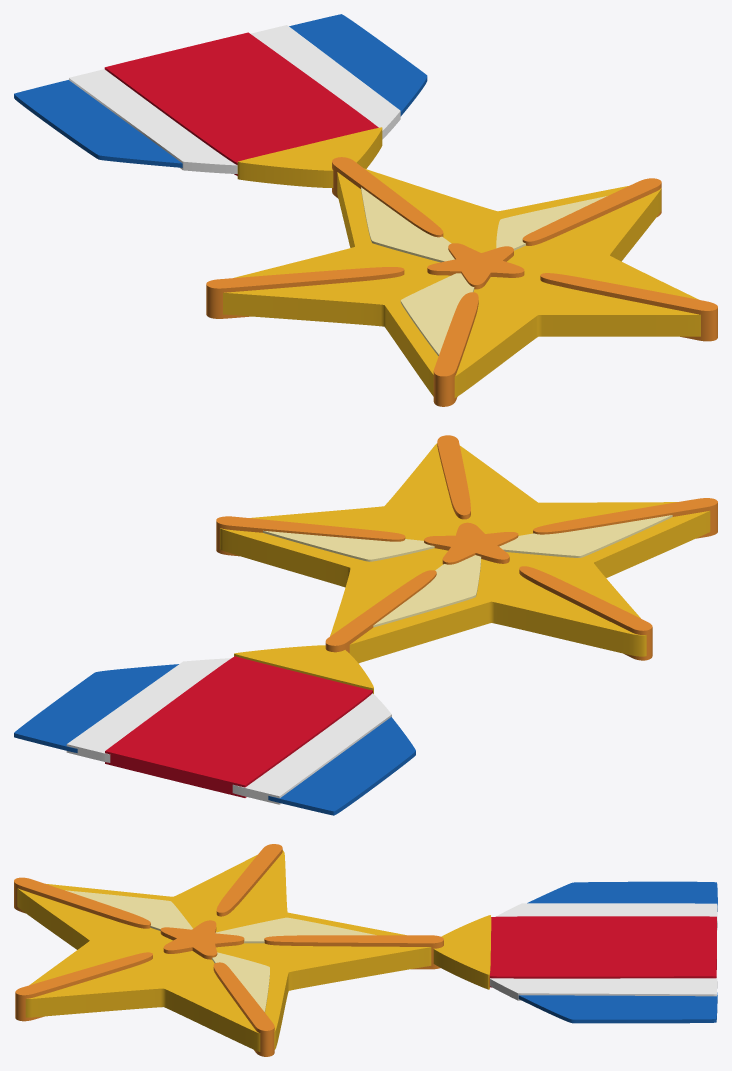
The model's file is emoji_u1f396.glb.
3 views of the same model, one above another, from view 1: azimuth 30°, elevation 25°; view 2: azimuth 150°, elevation 25°; view 3: azimuth 270°, elevation 25° (orthographic). The views are drawn at different scales.
Parts seen in each view (by area): view 1: emoji_u1f396; view 2: emoji_u1f396; view 3: emoji_u1f396.
Part boxes in pixels (x1,y1,x2,y2): emoji_u1f396: [14, 14, 717, 406]; emoji_u1f396: [14, 435, 717, 815]; emoji_u1f396: [14, 844, 717, 1056].
Bounding box in the file's own units: 0.0216 × 0.0014 × 0.0343.
